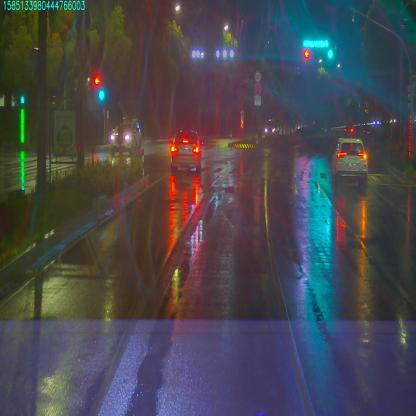traffic-light: (303, 38, 330, 48), (328, 48, 333, 57), (305, 50, 309, 58)
